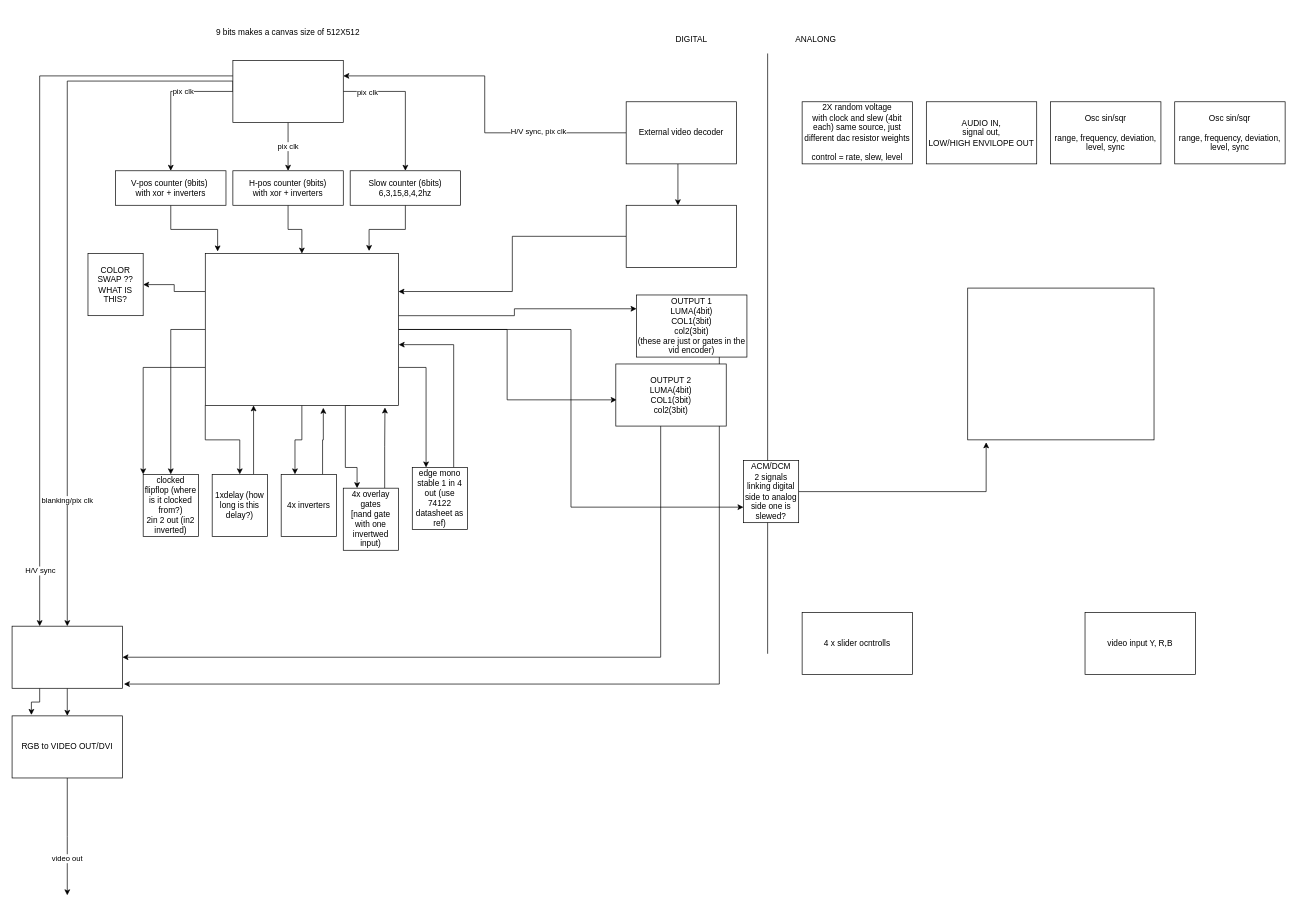
Image size: 1297x913. Some labels were removed from this diagram. The centre of each missing label's shape, as x and y in pixels:
Comparator with spacing control (7bits): point 681,236
Patch bay (analog) 20X16: point 1060,363
Patch bay (DIGITAL) 57X53: point 301,329
Video Encoder controll = luma, colour red, colour blue levels: point 66,656
Video Sync Generator/ external sync mux: point 287,91
